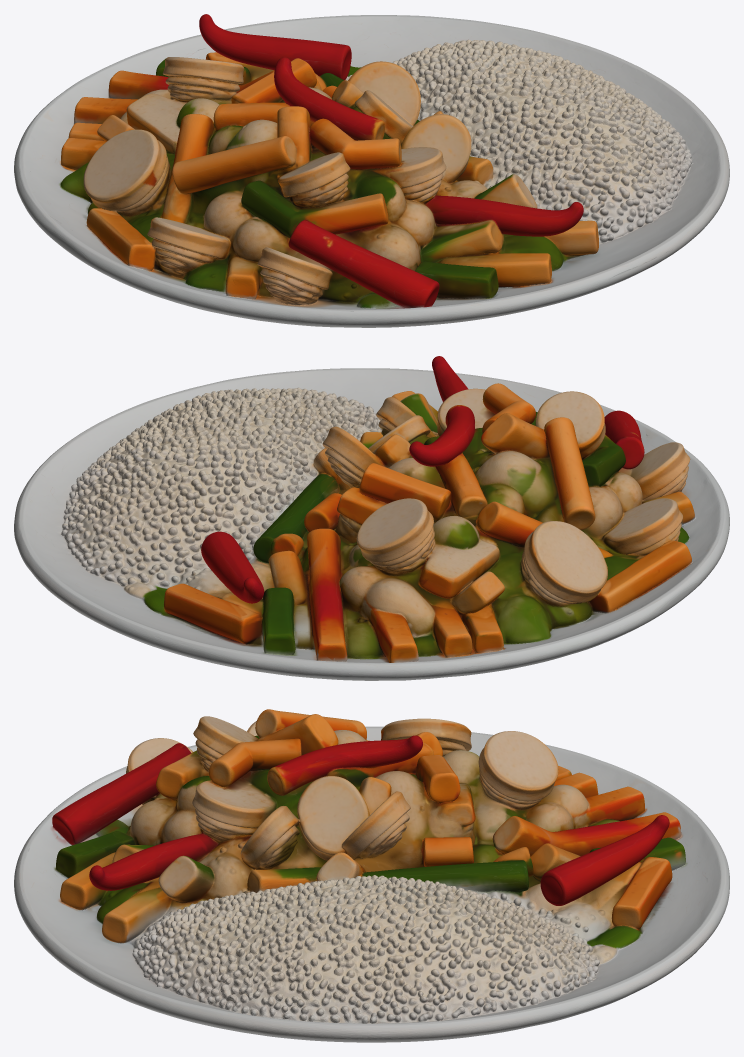
The model's file is stir-fried.fbx.
3 renders of one model, top to bottom at view 1: azimuth 30°, elevation 25°; view 2: azimuth 150°, elevation 25°; view 3: azimuth 270°, elevation 25°, orthographic.
Parts seen in each view (by area): view 1: texture_pbr_v128; view 2: texture_pbr_v128; view 3: texture_pbr_v128.
Boxes of the visible parts, x1=… form: texture_pbr_v128: x1=14, y1=14, x2=729, y2=327; texture_pbr_v128: x1=14, y1=356, x2=729, y2=680; texture_pbr_v128: x1=14, y1=709, x2=729, y2=1042.
Bounding box in the file's own units: 825 × 196 × 822.
